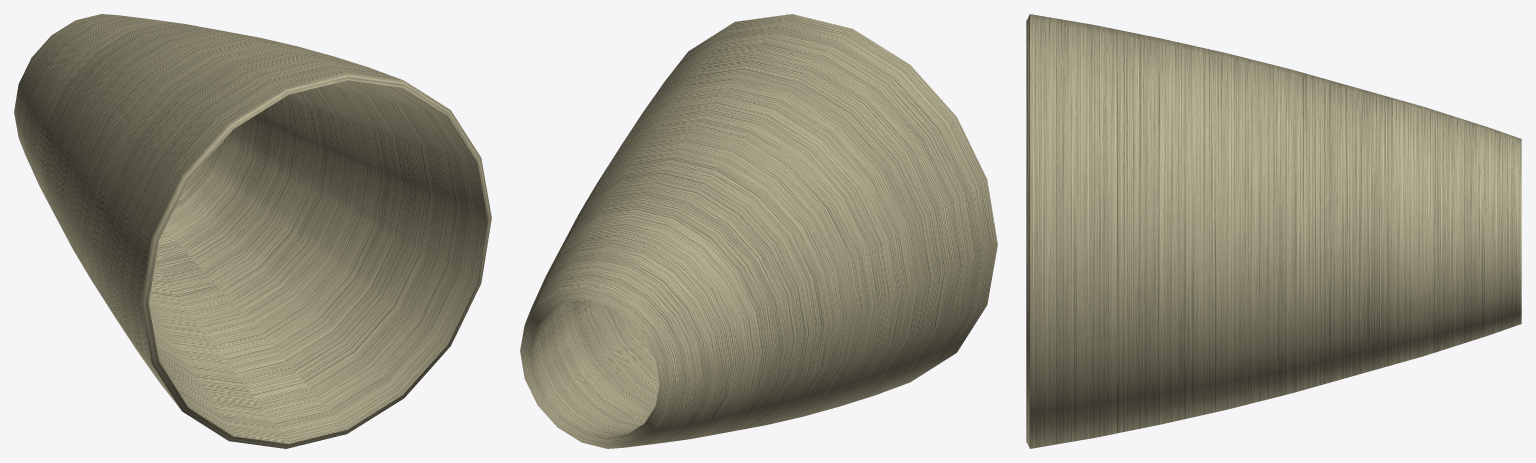
Rendered from 火箭尾部1.FBX.
3 views of the same model, side by side, from view 1: azimuth 30°, elevation 25°; view 2: azimuth 150°, elevation 25°; view 3: azimuth 270°, elevation 25° (orthographic). The views are drawn at different scales.
Parts seen in each view (by area): view 1: YF-75发动机_30; view 2: YF-75发动机_30; view 3: YF-75发动机_30.
Boxes of the visible parts, x1,y1,x2,y2 form: YF-75发动机_30: [14, 14, 491, 448]; YF-75发动机_30: [520, 14, 997, 448]; YF-75发动机_30: [1026, 14, 1521, 448].
Size of the model in its own units: 1133 by 1116 by 1286.
Materials: 1 (1 with a texture image).
